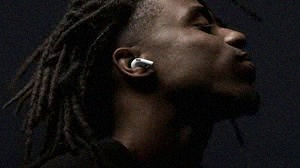earphone: (112, 47, 156, 77)
